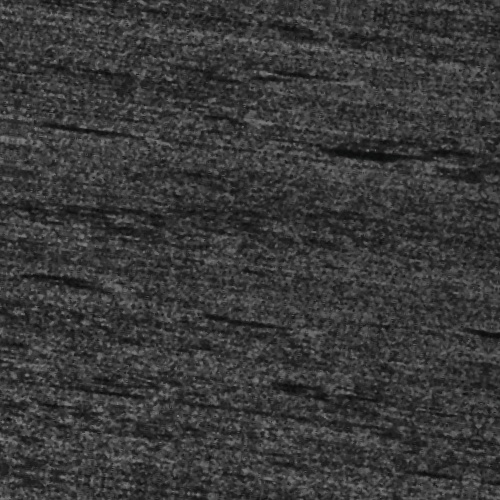object: (381, 130, 444, 141), (284, 315, 357, 322), (77, 295, 130, 302)
shadow: (319, 130, 412, 141), (218, 315, 320, 322), (20, 295, 104, 302), (439, 293, 500, 302)
